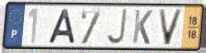1: (28, 8, 40, 45)
7: (79, 7, 103, 46)
A: (46, 8, 77, 45)
J: (105, 8, 129, 46)
K: (131, 8, 155, 46)
V: (157, 8, 185, 47)
